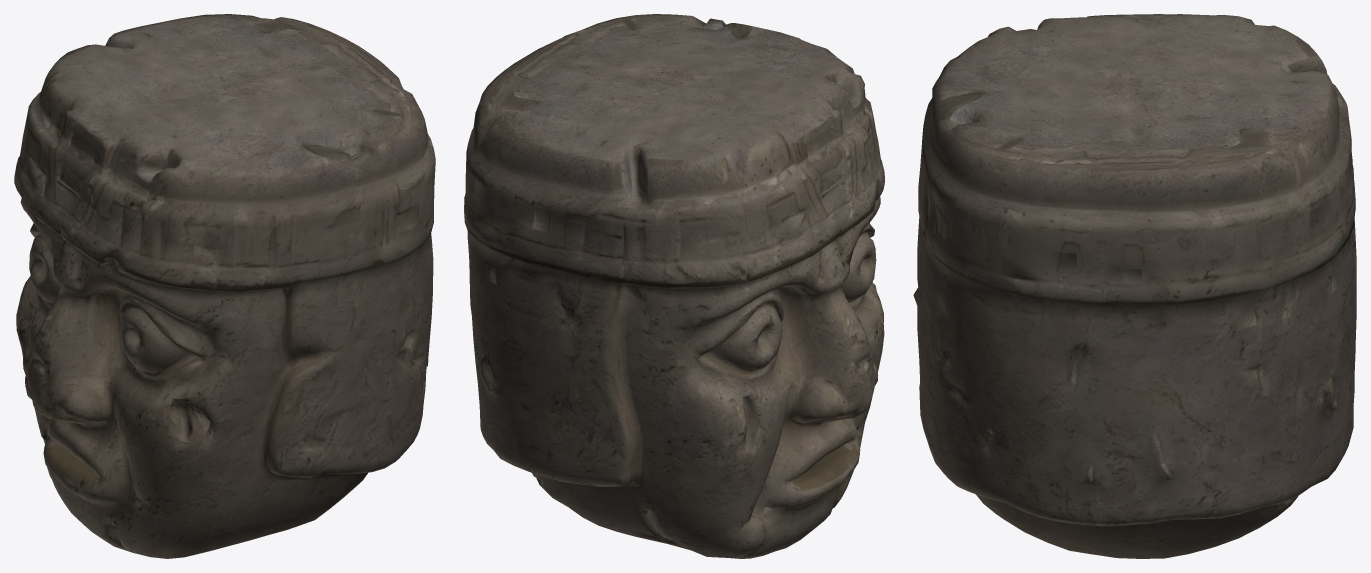
File: cabeza_clava.glb
The picture shows the model from 3 angles, left to right: view 1: azimuth 30°, elevation 25°; view 2: azimuth 150°, elevation 25°; view 3: azimuth 270°, elevation 25°; orthographic projection. The views are drawn at different scales.
Parts seen in each view (by area): view 1: tripo_node_1417ddf5-da03-4144-bf90-48b96; view 2: tripo_node_1417ddf5-da03-4144-bf90-48b96; view 3: tripo_node_1417ddf5-da03-4144-bf90-48b96.
Boxes of the visible parts, left/top/right/bottom form: tripo_node_1417ddf5-da03-4144-bf90-48b96: left=14, top=14, right=435, bottom=558; tripo_node_1417ddf5-da03-4144-bf90-48b96: left=464, top=14, right=884, bottom=558; tripo_node_1417ddf5-da03-4144-bf90-48b96: left=913, top=14, right=1356, bottom=558.
Size of the model in its own units: 0.877 by 0.998 by 0.8652.
1 material, 1 textured.
